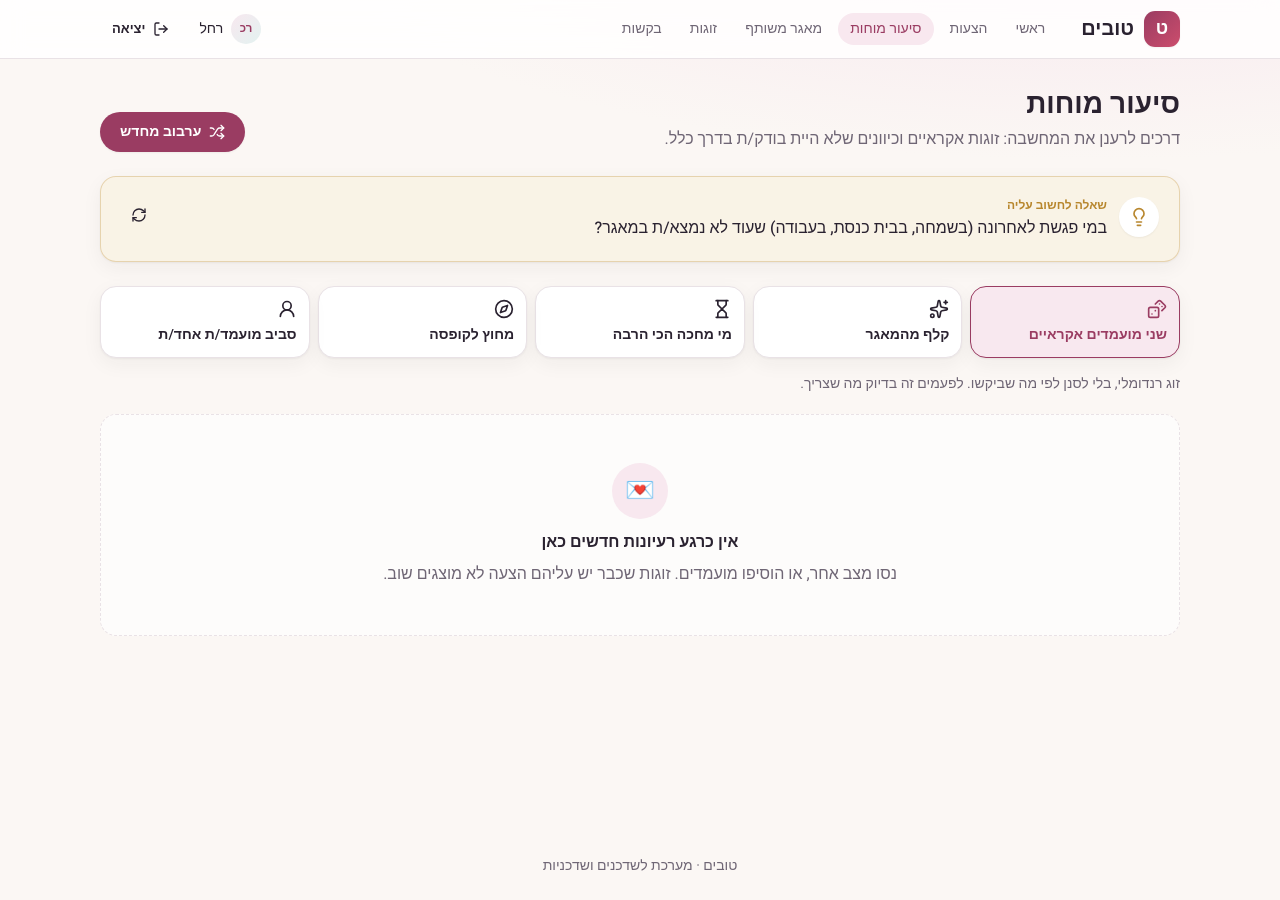
Test: brainstorm › asks for a single in "single" mode and then brainstorms for them
expect the heading "אין כרגע רעיונות חדשים כאן" is shown: met, box left=542, top=531, right=738, bottom=553
Step 1. Click the radio button labelled "סביב מועמד/ת אחד/ת" → (205, 322), box left=100, top=286, right=310, bottom=358
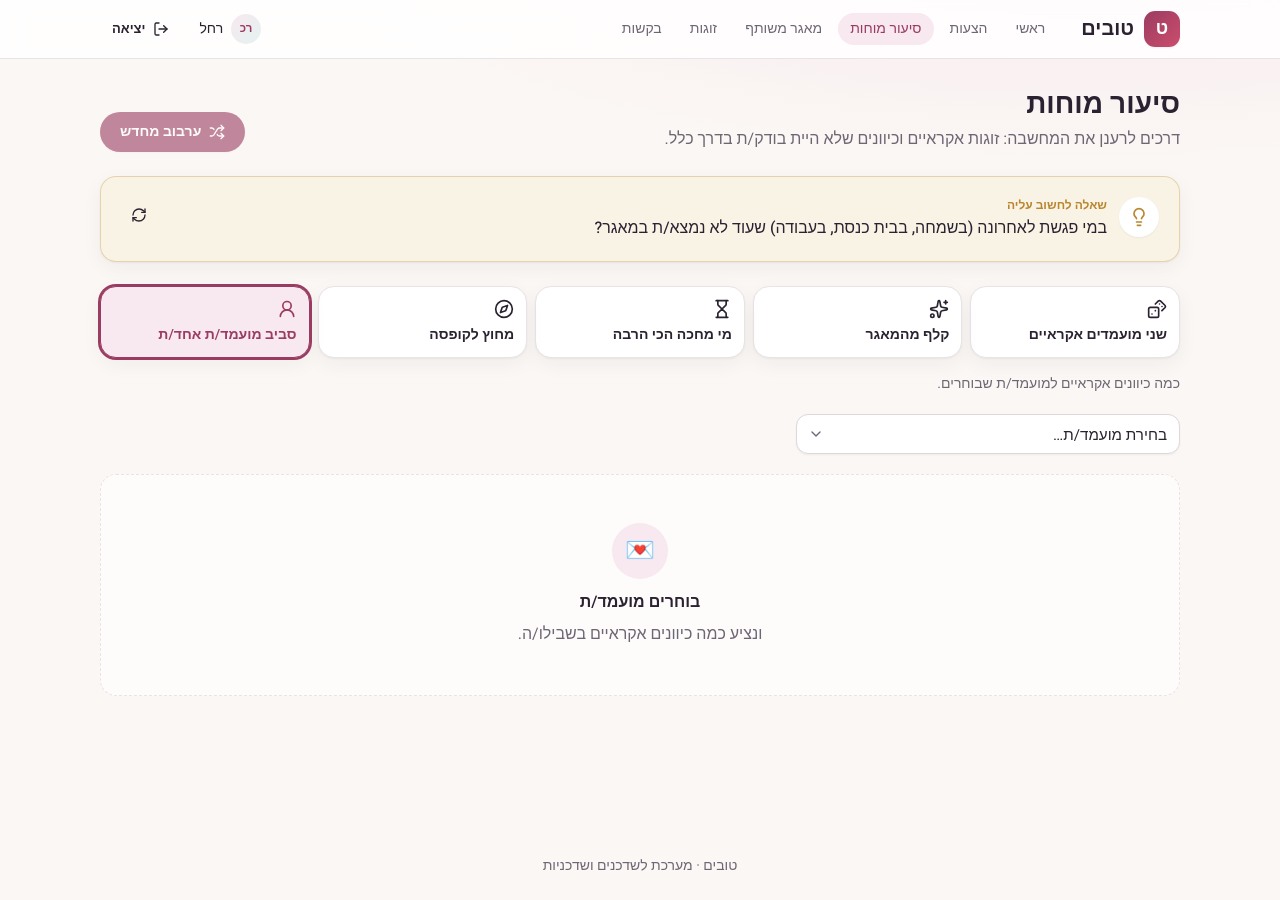
expect the heading "בוחרים מועמד/ת" is shown: met, box left=580, top=591, right=700, bottom=613
expect the button "ערבוב מחדש" is disabled: met, box left=100, top=112, right=245, bottom=152
Step 2. Select "אלי פרץ" in the dropdown named "מועמד/ת" → (988, 434), box left=796, top=414, right=1180, bottom=454
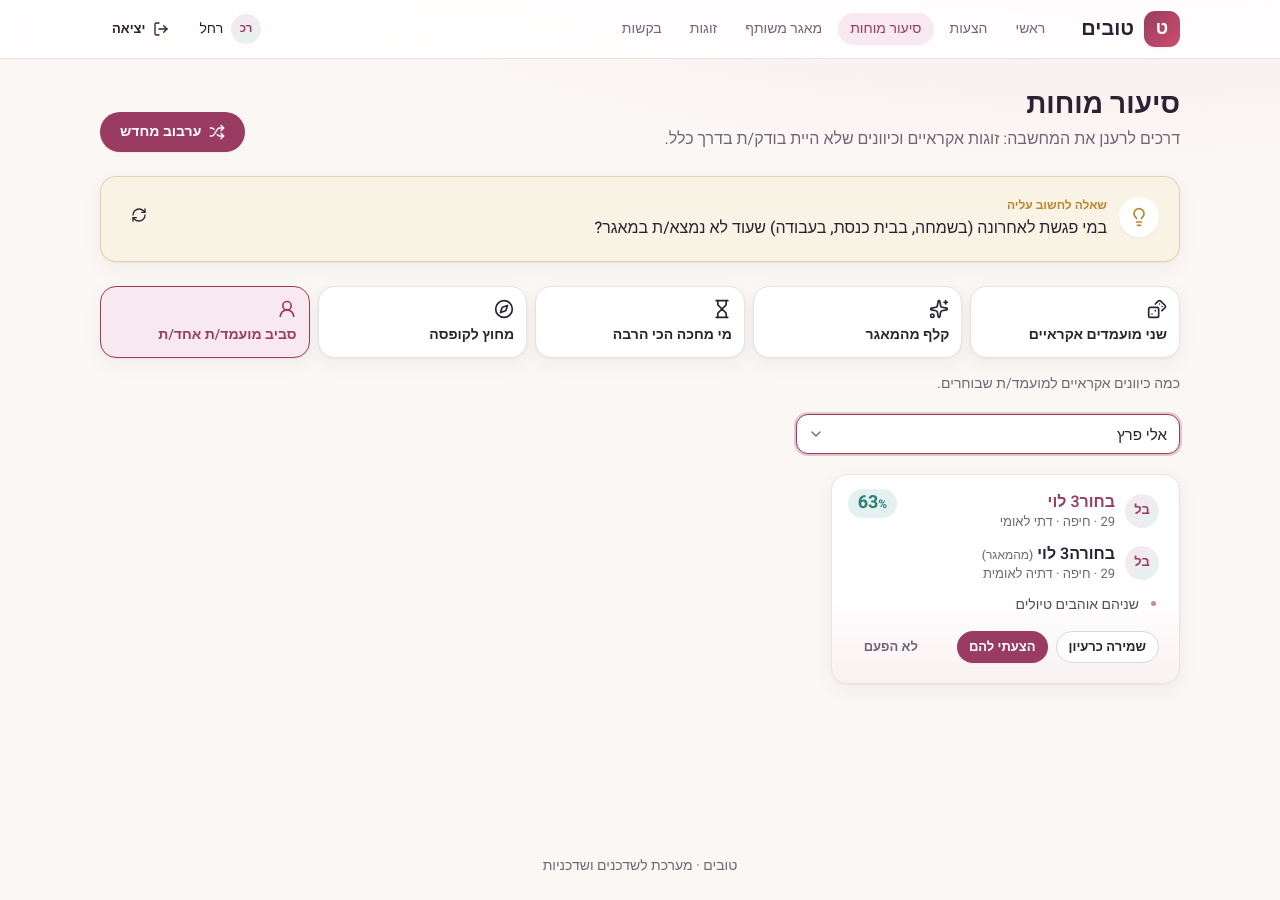
expect the link "בחור3 לוי" is shown: met, box left=1048, top=490, right=1115, bottom=514
